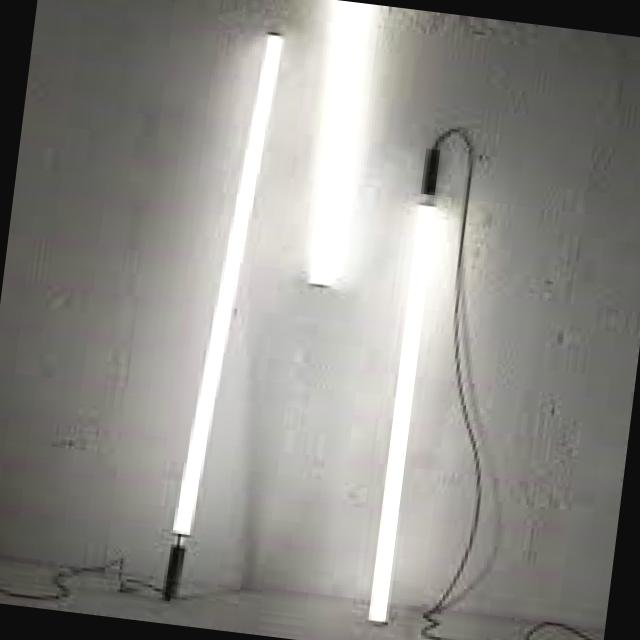light: (169, 31, 284, 537), (362, 196, 440, 626), (303, 0, 382, 288)
